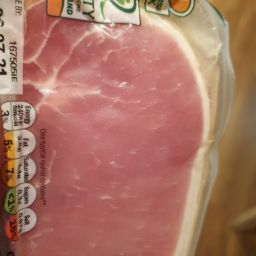Bacon: (27, 22, 244, 247), (38, 27, 241, 226), (123, 32, 239, 256), (197, 3, 244, 202)
